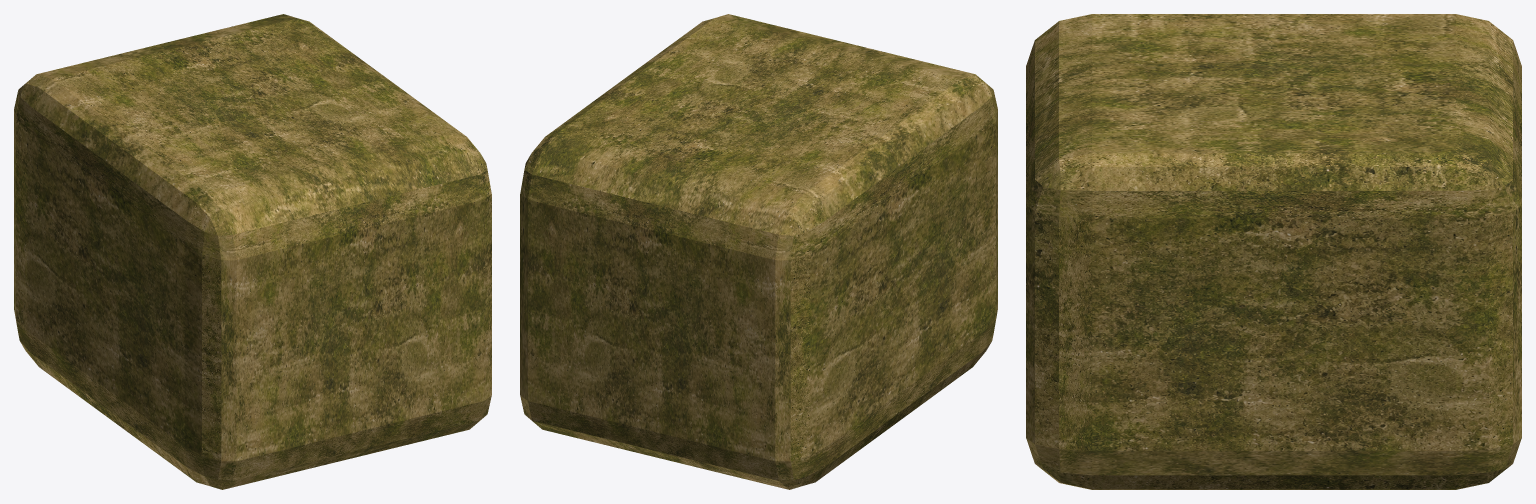
The model's file is BriquePierreCoupeVerte.glb.
The picture shows the model from 3 angles, left to right: view 1: azimuth 30°, elevation 25°; view 2: azimuth 150°, elevation 25°; view 3: azimuth 270°, elevation 25°; orthographic projection. The views are drawn at different scales.
Visible parts, largest first — view 1: BriquePierreCoupe; view 2: BriquePierreCoupe; view 3: BriquePierreCoupe.
Part boxes in pixels (x1,y1,x2,y2): BriquePierreCoupe: (14,14,491,489); BriquePierreCoupe: (520,14,997,489); BriquePierreCoupe: (1026,14,1521,489).
Size of the model in its own units: 4.18 by 3.96 by 5.29.
1 material, 1 textured.
